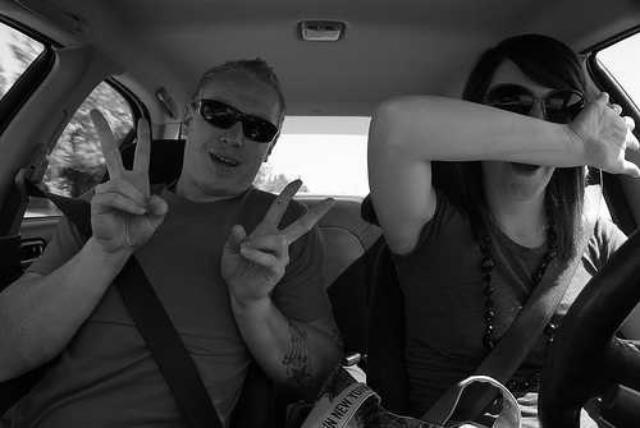Seatbelt: (12, 151, 230, 428), (473, 180, 603, 416)
